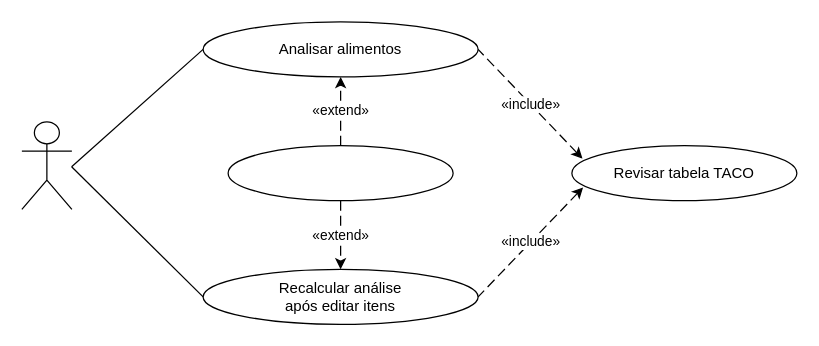
Image size: 819x346. Some labels were removed from this diagram. The centre of each missing label's shape, as x and y in pixels:
IA: (x=46, y=165)
Usar cache de análise: (x=340, y=172)
